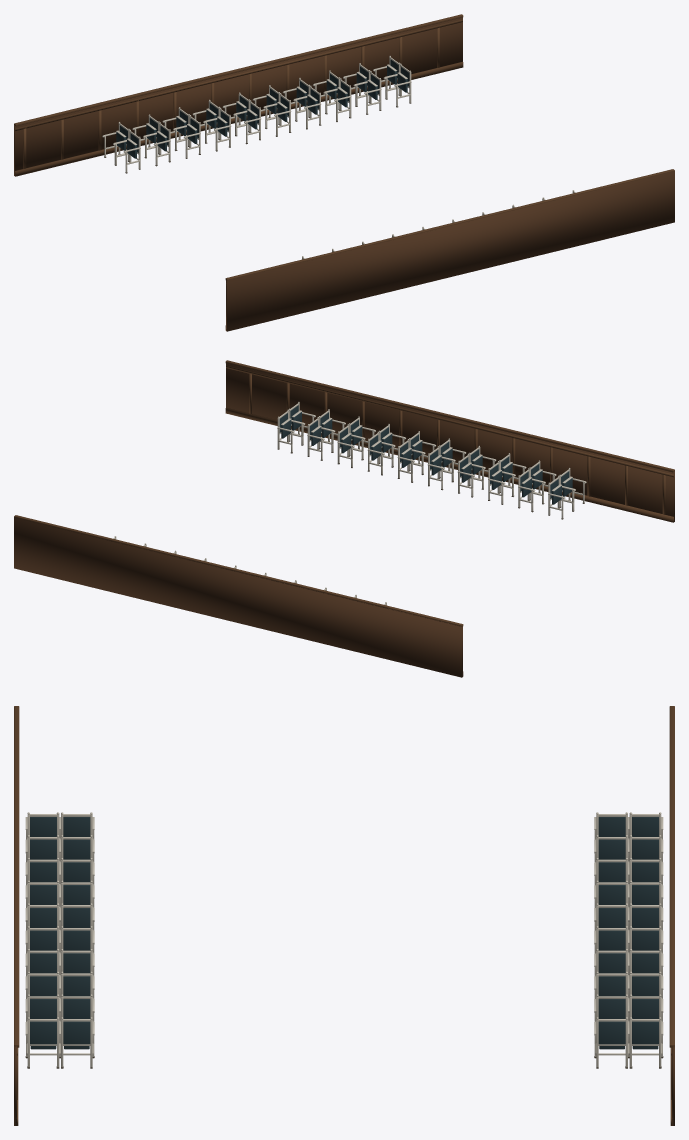
The model's file is CR3_sidefix.fbx.
3 views of the same model, one above another, from view 1: azimuth 30°, elevation 25°; view 2: azimuth 150°, elevation 25°; view 3: azimuth 270°, elevation 25° (orthographic). The views are drawn at different scales.
Parts seen in each view (by area): view 1: SideFix; view 2: SideFix; view 3: SideFix.
Boxes of the visible parts, x1,y1,x2,y2 form: SideFix: (14,14,674,331); SideFix: (14,360,674,677); SideFix: (14,706,674,1125).
Size of the model in its own units: 13.7 by 1.53 by 11.29.
